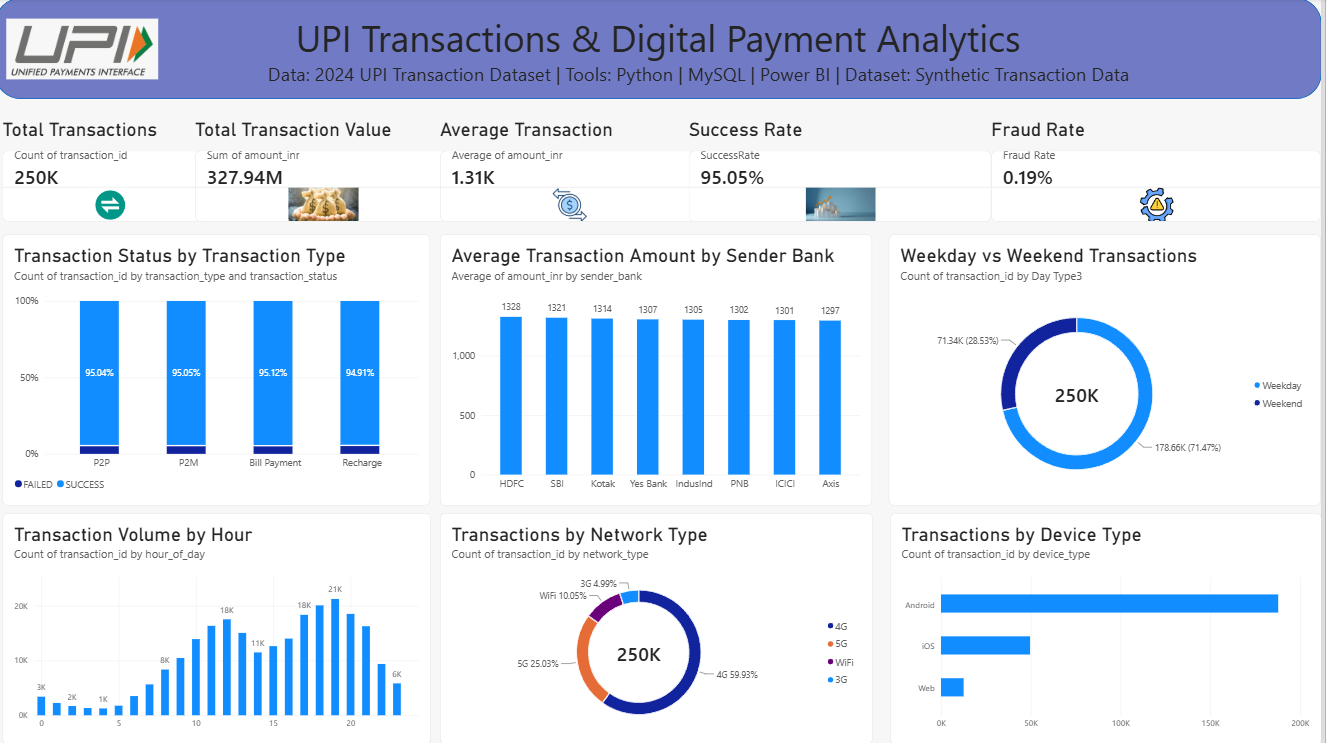

This screenshot's page, from the dashboard's own definition file:
{"tool":"powerbi","page":{"name":"Page 2","canvas":[1920,1080],"ordinal":1},"visuals":[{"type":"shape","box":[0,0,1920.4,146.1],"z":1},{"type":"image","box":[16.5,2.1,220.2,144.1],"z":2},{"type":"textbox","box":[0,20.6,1920.4,125.6],"z":3},{"type":"cardVisual","title":"Total Transactions","fields":{"Data":["CountNonNull(upi_analytic_project upi_transactions.transaction_id)"]},"box":[10.3,172.9,310.8,150.3],"z":4},{"type":"cardVisual","title":"Total Transaction Value","fields":{"Data":["Sum(upi_analytic_project upi_transactions.amount_inr)"]},"box":[290.2,172.9,370.5,150.3],"z":5},{"type":"cardVisual","title":"Average Transaction","fields":{"Data":["Avg(upi_analytic_project upi_transactions.amount_inr)"]},"box":[644.3,172.9,374.6,150.3],"z":6},{"type":"cardVisual","title":"Success Rate","fields":{"Data":["upi_transaction_analytic_project.SuccessRate"]},"box":[1004.5,172.9,438.4,150.3],"z":7},{"type":"cardVisual","title":"Fraud Rate","fields":{"Data":["upi_transaction_analytic_project.Fraud Rate"]},"box":[1442.5,172.9,477.5,150.3],"z":8},{"type":"hundredPercentStackedColumnChart","title":"Transaction Status by Transaction Type","fields":{"Category":["upi_transaction_analytic_project.transaction_type"],"Series":["upi_transaction_analytic_project.transaction_status"],"Y":["CountNonNull(upi_transaction_analytic_project.transaction_id)"]},"box":[10.3,341.7,619.6,393.1],"z":9},{"type":"clusteredColumnChart","title":"Transaction Volume by Hour","fields":{"Category":["upi_transaction_analytic_project.hour_of_day"],"Y":["CountNonNull(upi_transaction_analytic_project.transaction_id)"]},"box":[10,745,620,335],"z":10},{"type":"clusteredColumnChart","title":"Average Transaction Amount by Sender Bank","fields":{"Category":["upi_transaction_analytic_project.sender_bank"],"Y":["Avg(upi_transaction_analytic_project.amount_inr)"]},"box":[644.3,341.7,625.7,393.1],"z":11},{"type":"donutChart","title":"Weekday vs Weekend Transactions","fields":{"Category":["upi_transaction_analytic_project.Day Type3"],"Y":["CountNonNull(upi_transaction_analytic_project.transaction_id)"]},"box":[1294.7,341.7,625.7,393.1],"z":12},{"type":"donutChart","title":"Transactions by Network Type","fields":{"Category":["upi_transaction_analytic_project.network_type"],"Y":["CountNonNull(upi_transaction_analytic_project.transaction_id)"]},"box":[644,745,626,335],"z":13},{"type":"clusteredBarChart","title":"Transactions by Device Type","fields":{"Category":["upi_transaction_analytic_project.device_type"],"Y":["CountNonNull(upi_transaction_analytic_project.transaction_id)"]},"box":[1295,745,625,335],"z":14}]}

Visuals, with their boxes in screenshot pixels (x1, y1, x2, y2), scaled from the page's 1920x1080 canvas onto the 1327x743 screenshot:
shape: (left=0, top=0, right=1326, bottom=101)
image: (left=11, top=1, right=164, bottom=101)
textbox: (left=0, top=14, right=1326, bottom=101)
"Total Transactions" cardVisual: (left=7, top=119, right=222, bottom=222)
"Total Transaction Value" cardVisual: (left=201, top=119, right=457, bottom=222)
"Average Transaction" cardVisual: (left=445, top=119, right=704, bottom=222)
"Success Rate" cardVisual: (left=694, top=119, right=997, bottom=222)
"Fraud Rate" cardVisual: (left=997, top=119, right=1326, bottom=222)
"Transaction Status by Transaction Type" hundredPercentStackedColumnChart: (left=7, top=235, right=435, bottom=506)
"Transaction Volume by Hour" clusteredColumnChart: (left=7, top=513, right=435, bottom=742)
"Average Transaction Amount by Sender Bank" clusteredColumnChart: (left=445, top=235, right=878, bottom=506)
"Weekday vs Weekend Transactions" donutChart: (left=895, top=235, right=1326, bottom=506)
"Transactions by Network Type" donutChart: (left=445, top=513, right=878, bottom=742)
"Transactions by Device Type" clusteredBarChart: (left=895, top=513, right=1326, bottom=742)
